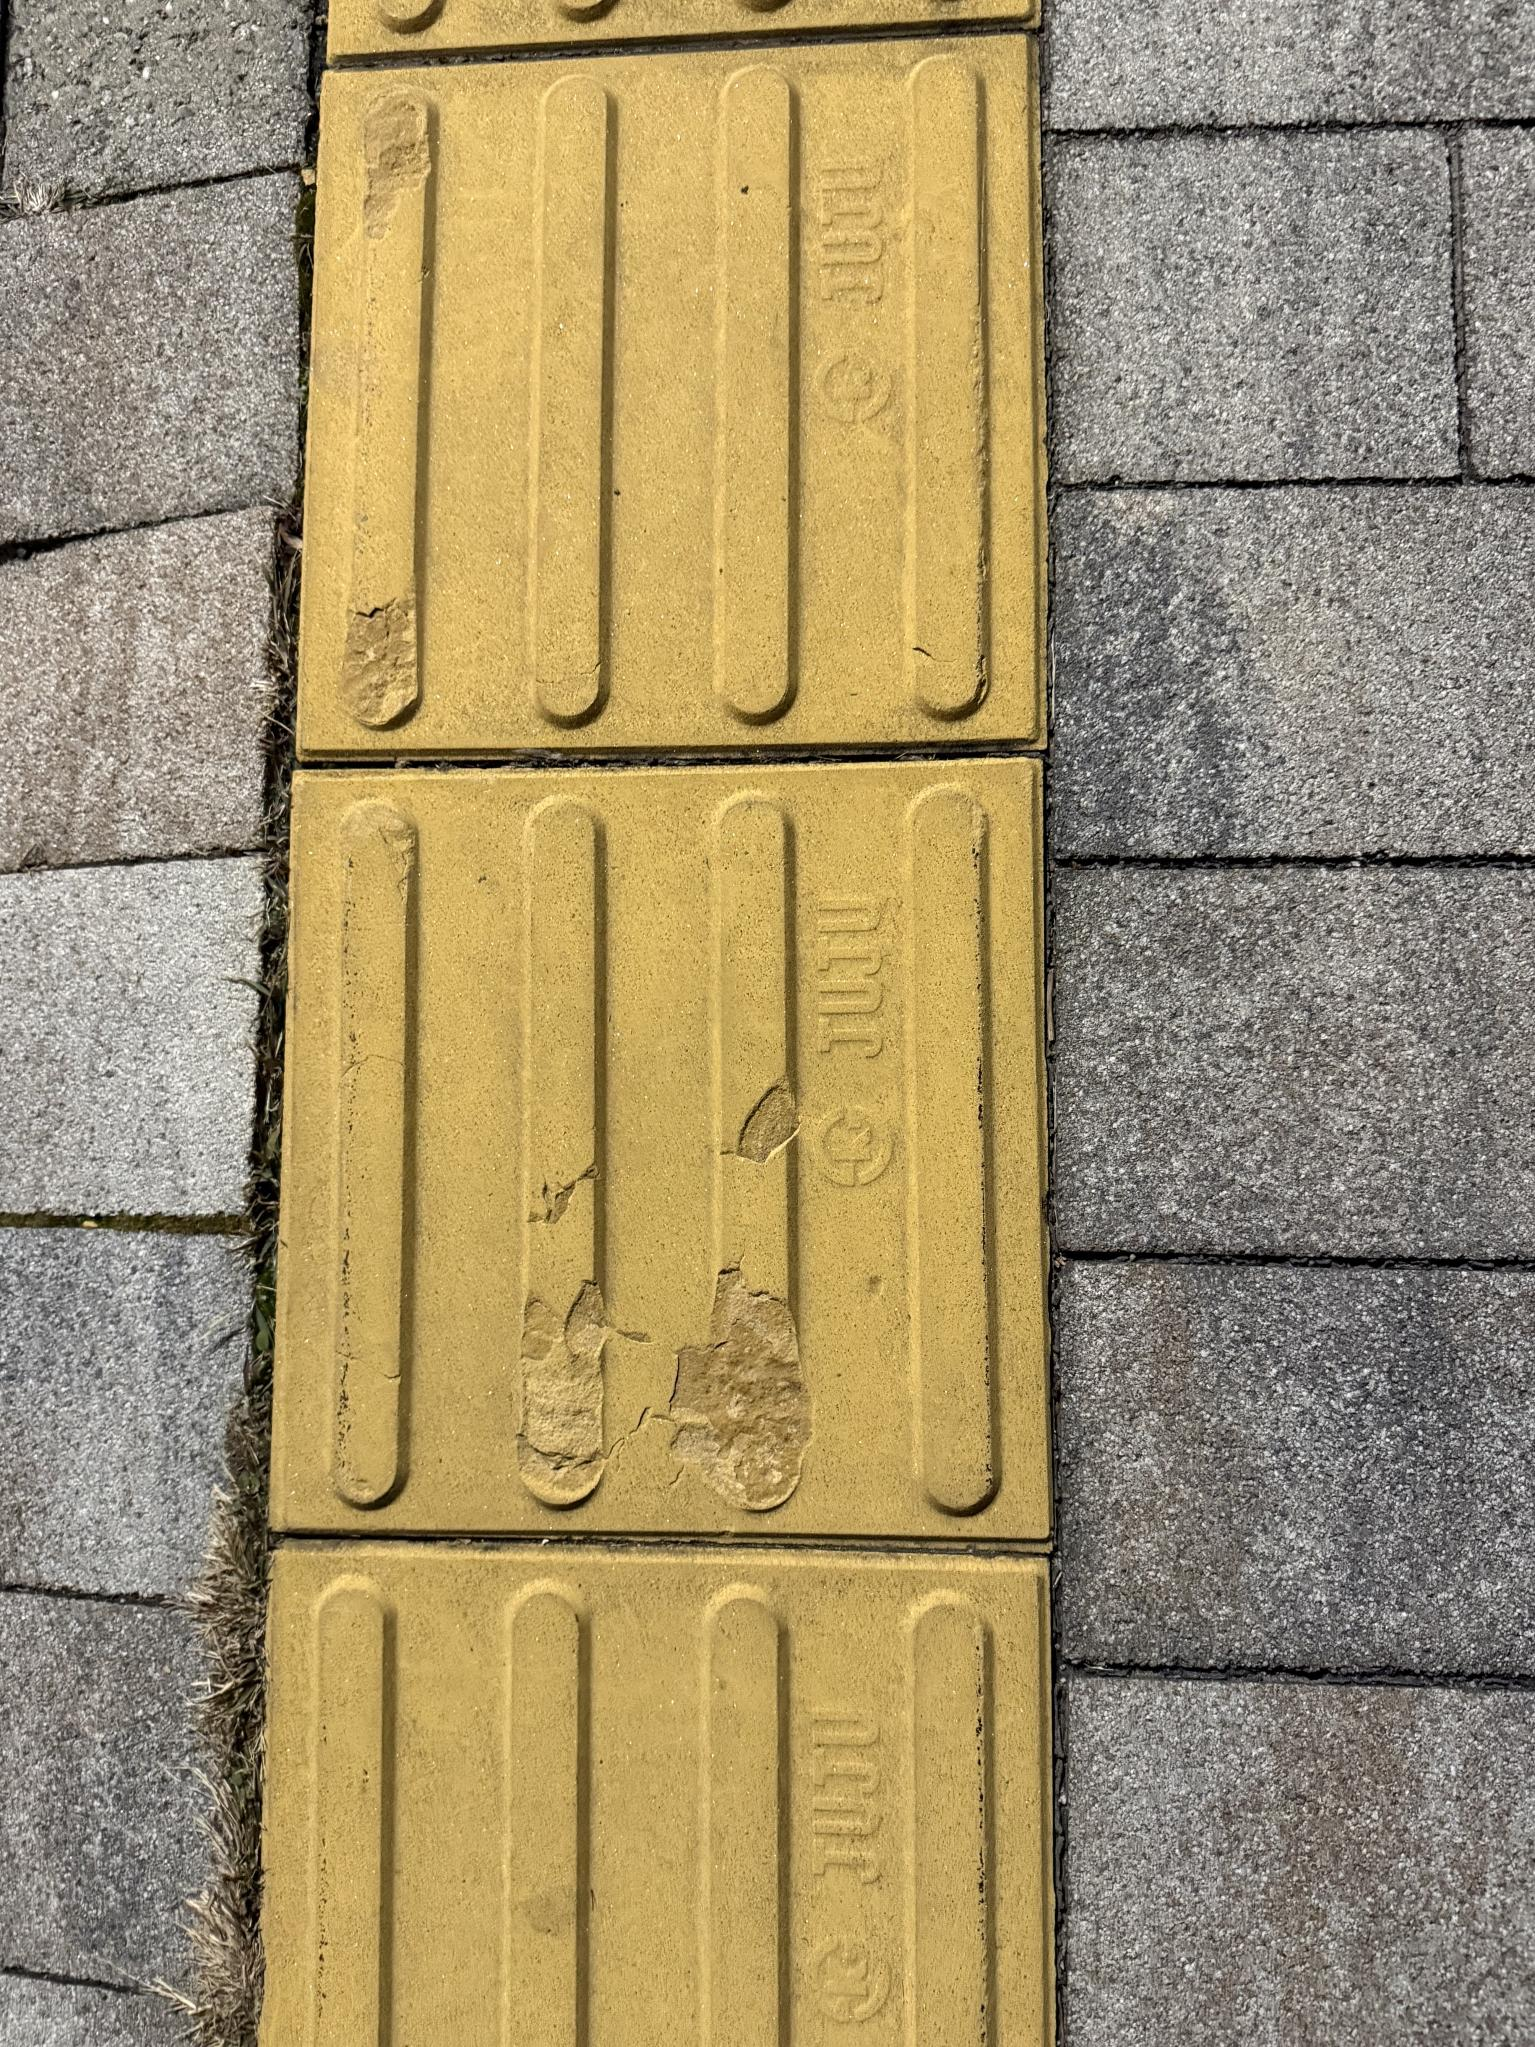Straight block broken: (276, 766, 1045, 1538), (321, 76, 1037, 740)
